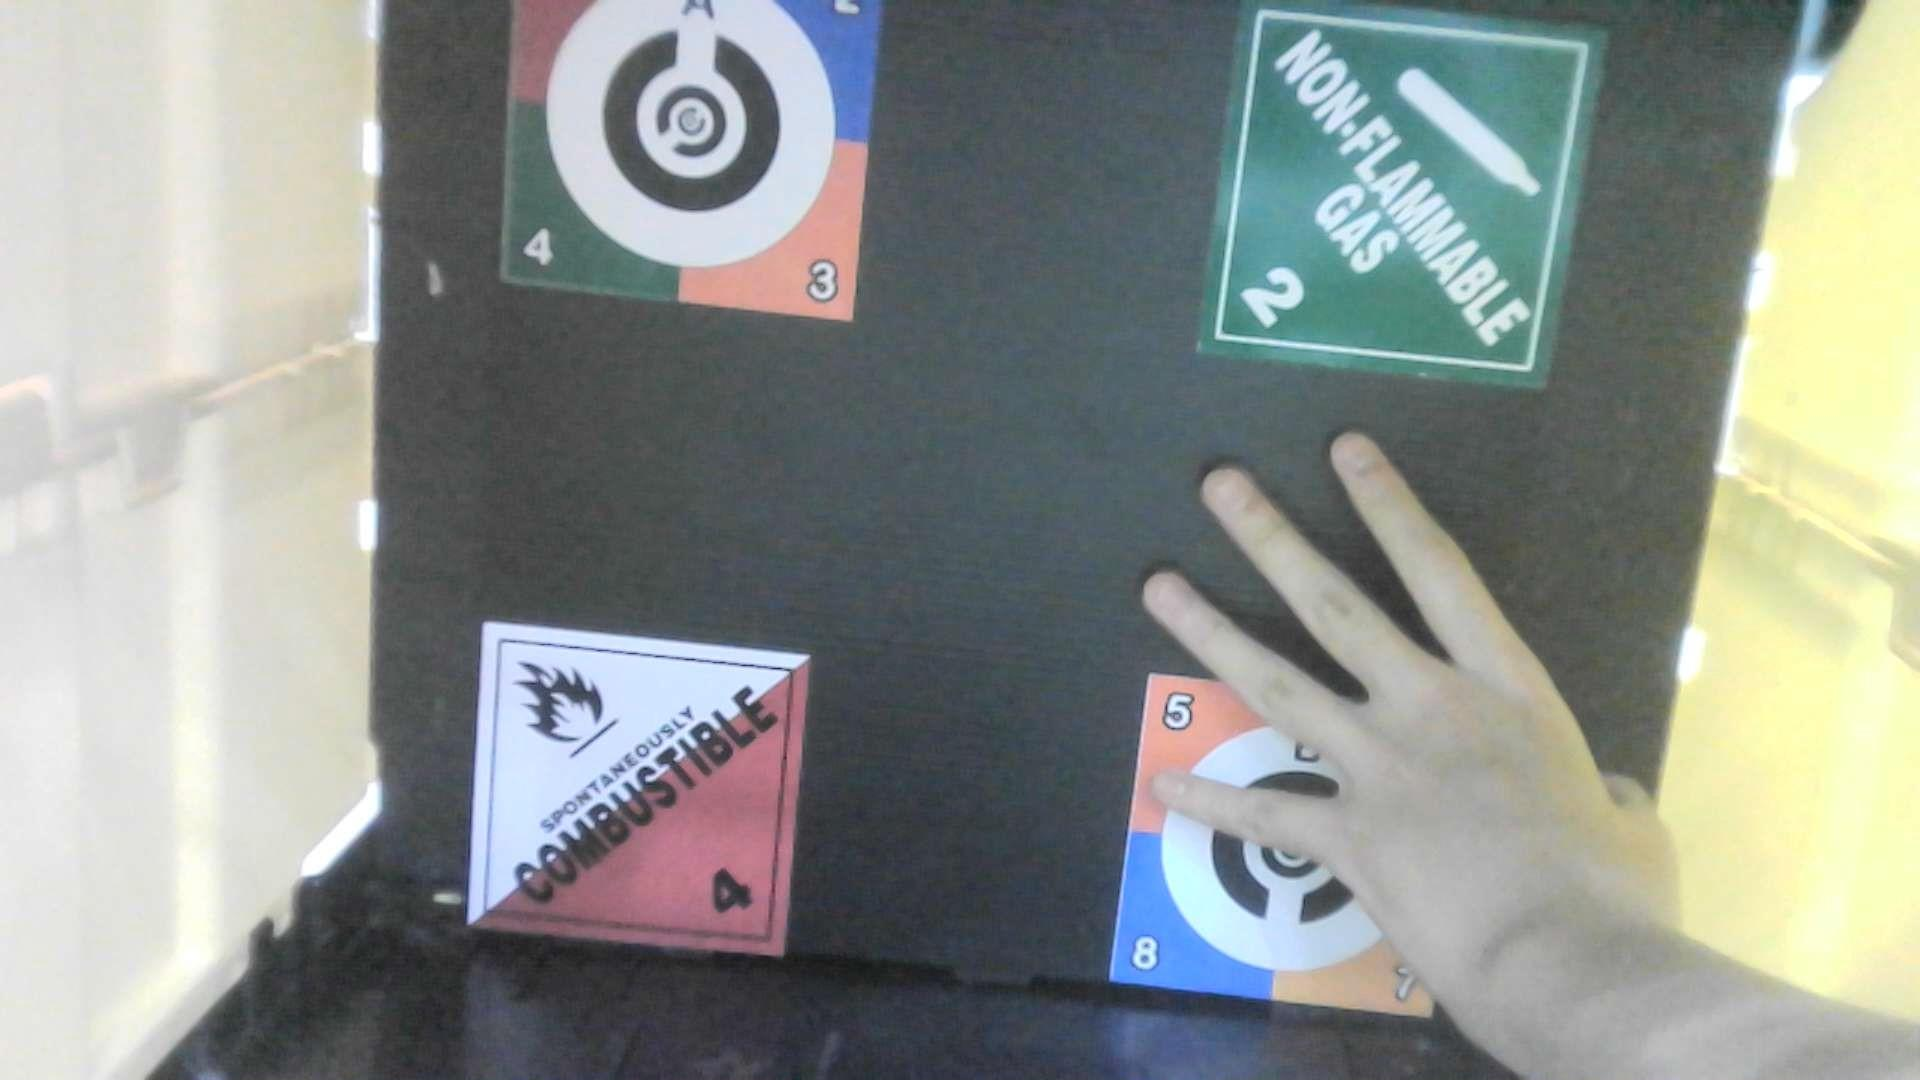non-flammable-gas: (1193, 1, 1619, 409)
spontaneously-combustible: (452, 609, 814, 975)
